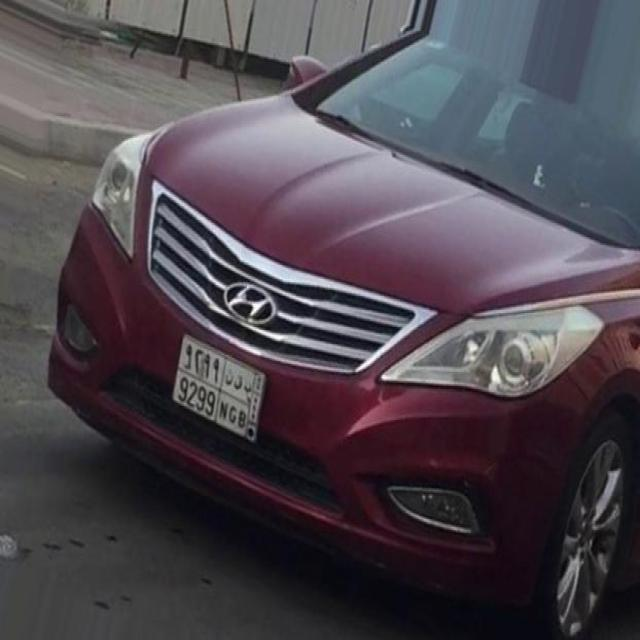Car-plate: (162, 310, 280, 459)
